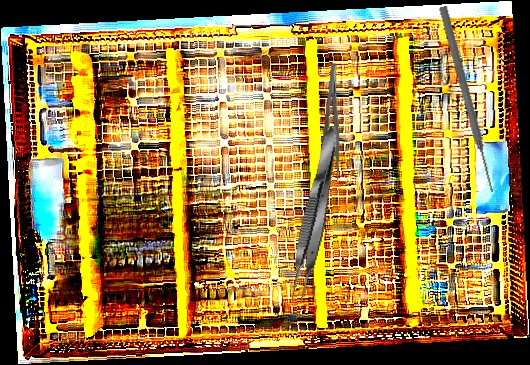Dressing Forceps: (318, 63, 349, 180)
Pusher: (436, 5, 499, 195)
Tissue Forceps: (284, 123, 347, 306)
